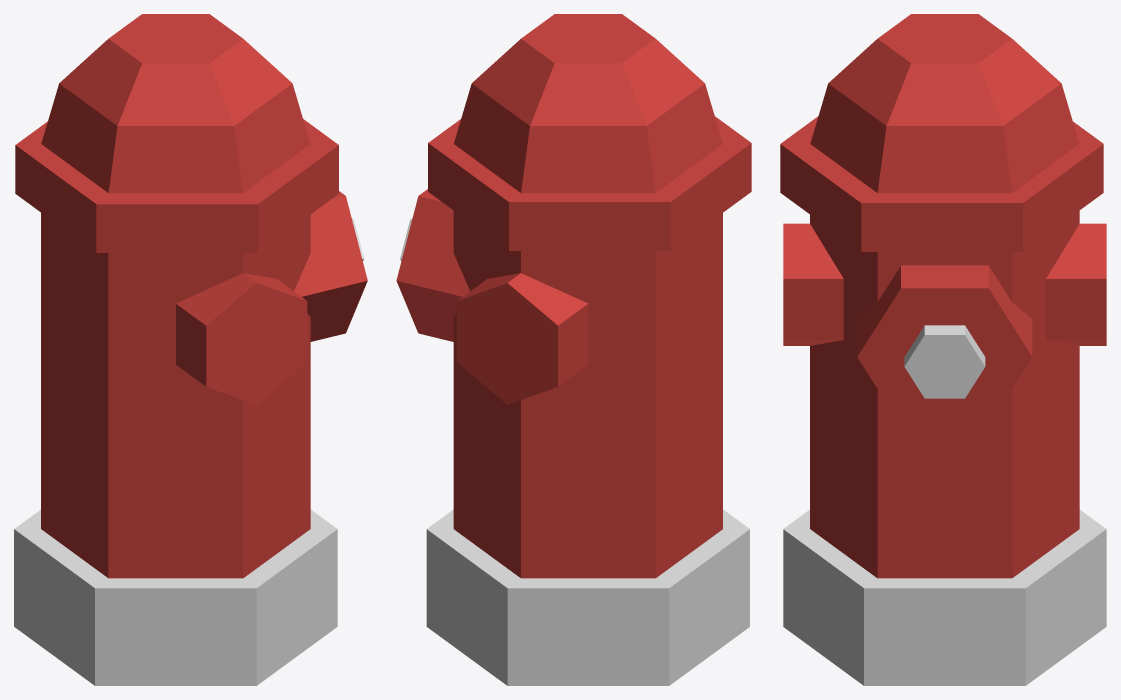
File: FireHydrant.fbx
3 renders of one model, left to right at view 1: azimuth 30°, elevation 25°; view 2: azimuth 150°, elevation 25°; view 3: azimuth 270°, elevation 25°, orthographic.
Visible parts, largest first — view 1: Sphere, Cylinder; view 2: Sphere, Cylinder; view 3: Sphere, Cylinder.
Boxes of the visible parts, bbox=[...] form: Sphere: bbox=[15, 14, 367, 578]; Cylinder: bbox=[14, 509, 337, 685]; Sphere: bbox=[396, 14, 751, 578]; Cylinder: bbox=[426, 509, 749, 685]; Sphere: bbox=[780, 14, 1106, 578]; Cylinder: bbox=[783, 509, 1106, 685].
Size of the model in its own units: 124 by 241 by 121.
